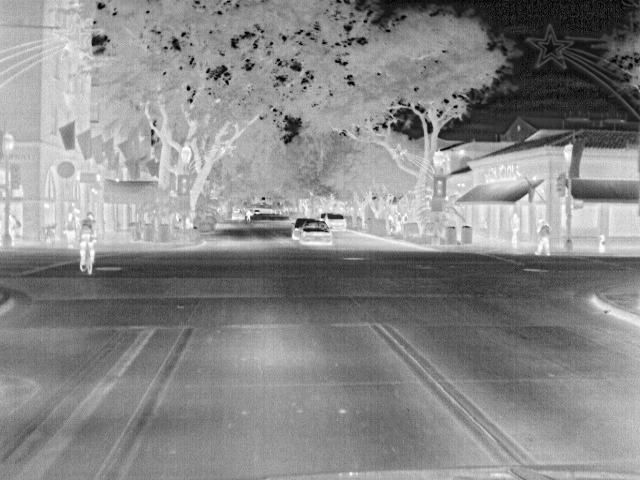car: (298, 222, 332, 247), (321, 212, 349, 233), (292, 218, 316, 241), (230, 209, 246, 221)
person: (77, 211, 96, 263), (533, 219, 556, 257), (508, 211, 522, 251), (8, 212, 22, 246), (65, 209, 78, 242), (394, 210, 404, 233), (244, 208, 254, 221), (403, 211, 410, 225)
